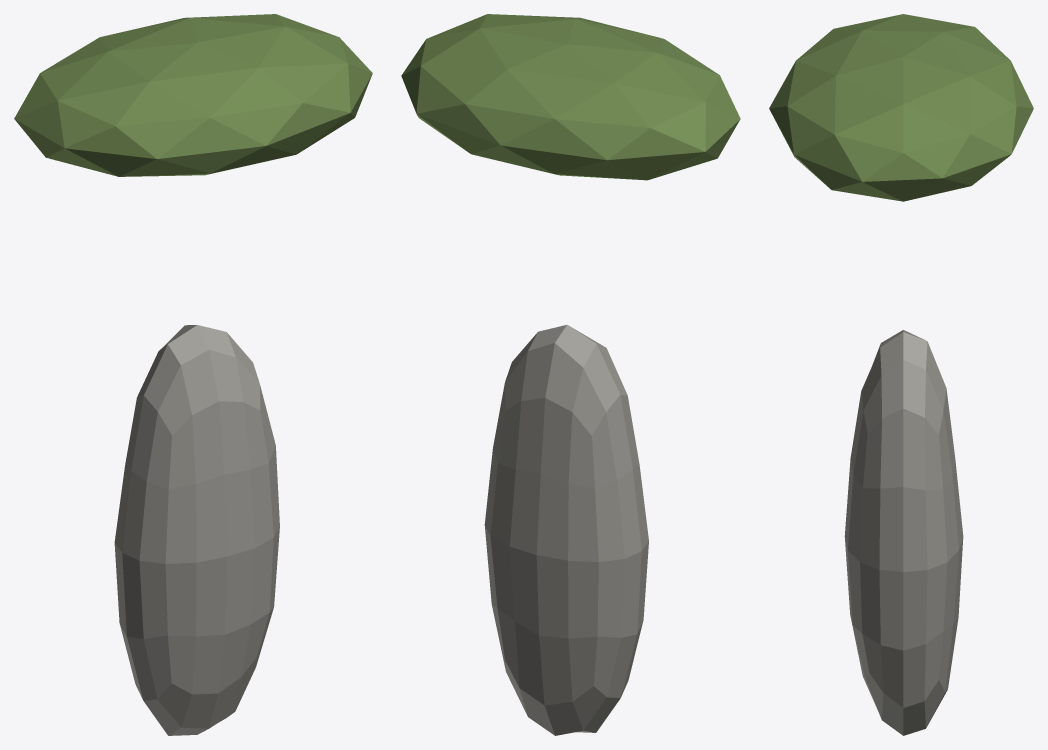
Rendered from menhir.glb.
3 views of the same model, side by side, from view 1: azimuth 30°, elevation 25°; view 2: azimuth 150°, elevation 25°; view 3: azimuth 270°, elevation 25° (orthographic). The views are drawn at different scales.
Visible parts, largest first — view 1: menhir; view 2: menhir; view 3: menhir.
Part boxes in pixels (x1=…): menhir: x1=14, y1=14, x2=372, y2=735; menhir: x1=401, y1=14, x2=740, y2=735; menhir: x1=769, y1=14, x2=1033, y2=735.
Bounding box in the file's own units: 0.6397 × 1.34 × 0.477.
